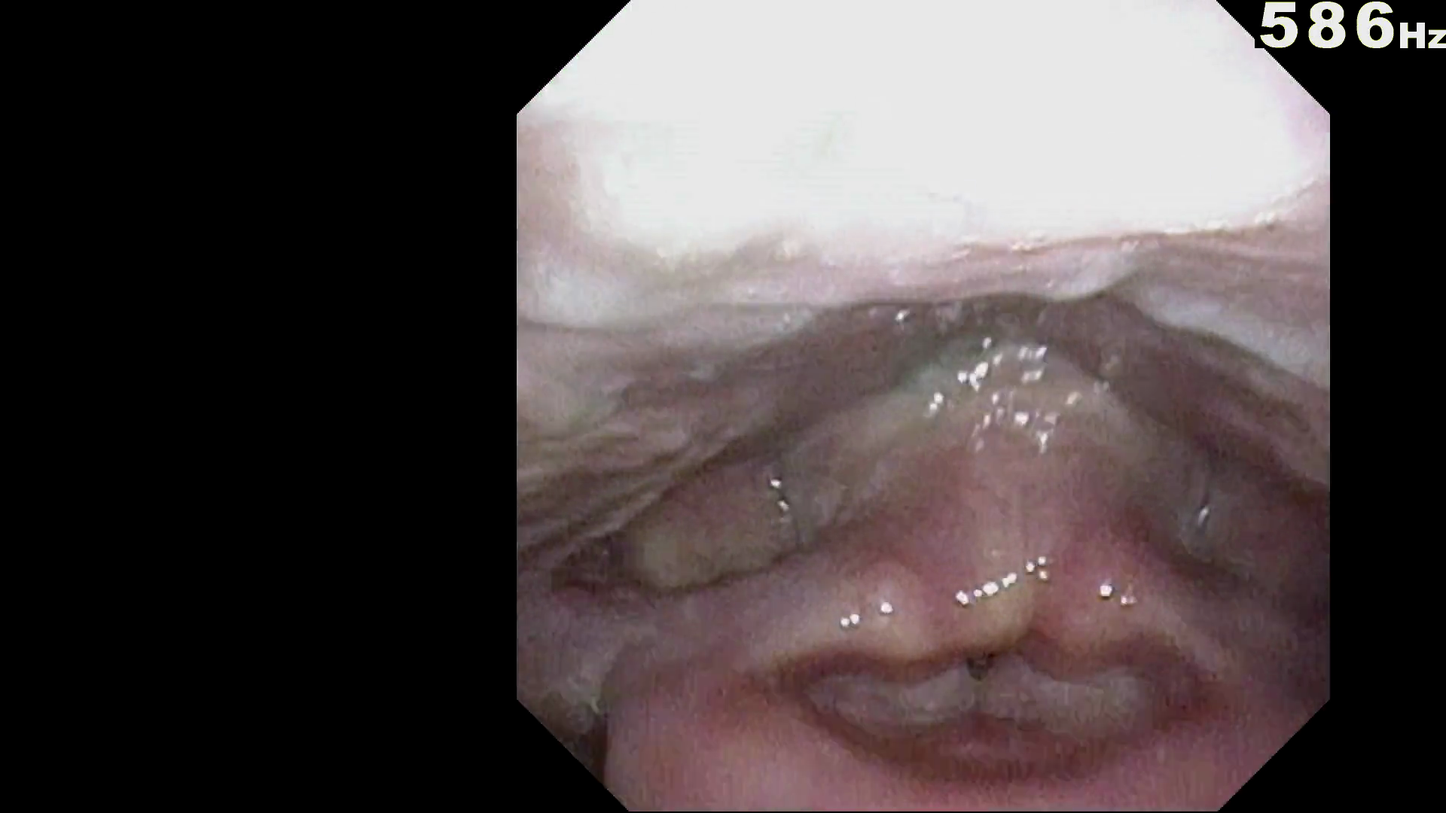epiglottis: (659, 643, 1228, 782)
